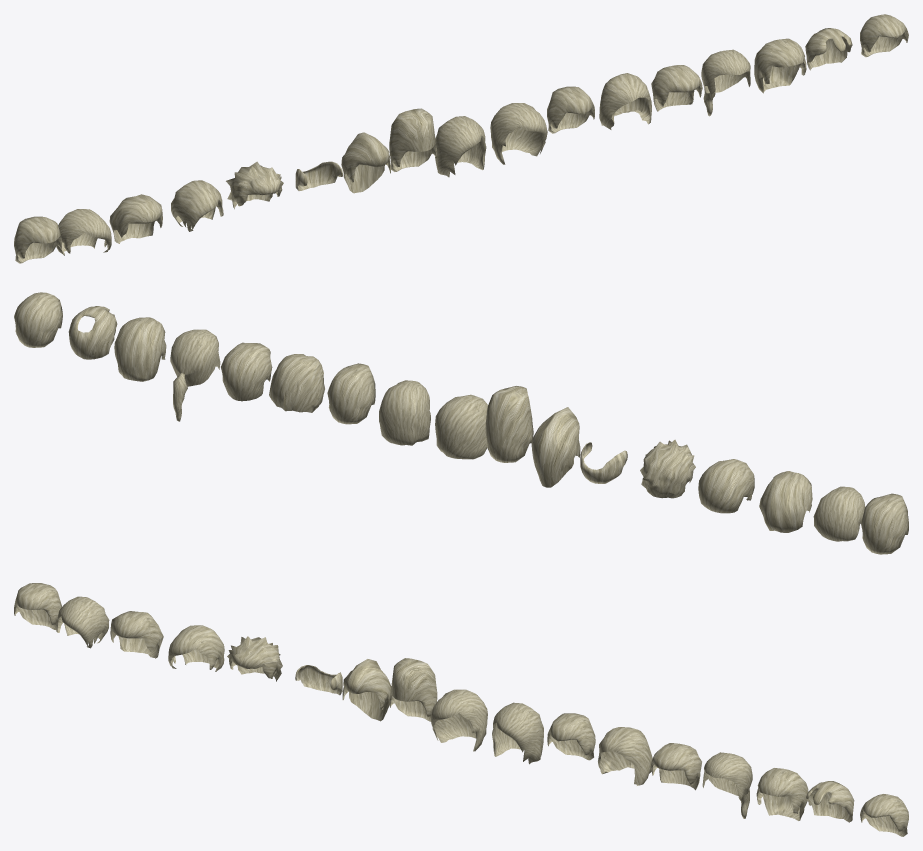
Rendered from HairPlaceable.dae.
The picture shows the model from 3 angles, top to bottom: view 1: azimuth 30°, elevation 25°; view 2: azimuth 150°, elevation 25°; view 3: azimuth 330°, elevation 25°; orthographic projection.
Parts seen in each view (by area): view 1: M_pt_left, Hair_AfAmLngCrew, M_pt_Right, M_slickedbk, Hair_Faux, M_center, curly, LPonyTail, S_pt_right, Hair_Normal, Hair_AfAmShortCrew, S_Pt_left (+5 smaller); view 2: Hair_AfAmLngCrew, M_pt_Right, M_pt_left, Hair_Faux, M_slickedbk, M_center, LPonyTail, curly, Hair_Spiky, S_pt_right, Hair_Normal, Hair_AfAmShortCrew (+5 smaller); view 3: M_pt_Right, M_pt_left, Hair_AfAmLngCrew, M_center, Hair_Faux, M_slickedbk, LPonyTail, curly, S_pt_right, S_Pt_left, Hair_Normal, Hair_ShavedFlatTop (+5 smaller).
Boxes of the visible parts, x1,y1,x2,y2 form: M_pt_left: [490, 103, 547, 164]; Hair_AfAmLngCrew: [389, 108, 436, 171]; M_pt_Right: [435, 116, 486, 177]; M_slickedbk: [754, 38, 806, 93]; Hair_Faux: [341, 132, 390, 193]; M_center: [599, 73, 651, 129]; curly: [109, 194, 162, 243]; LPonyTail: [701, 49, 750, 116]; S_pt_right: [171, 180, 223, 231]; Hair_Normal: [651, 65, 702, 111]; Hair_AfAmShortCrew: [14, 216, 61, 263]; S_Pt_left: [56, 209, 111, 255]; Hair_AfAmLngCrew: [485, 386, 533, 462]; M_pt_Right: [435, 394, 487, 459]; M_pt_left: [379, 380, 430, 445]; Hair_Faux: [531, 407, 580, 487]; M_slickedbk: [114, 317, 166, 381]; M_center: [269, 354, 324, 412]; LPonyTail: [170, 329, 220, 421]; curly: [759, 471, 812, 532]; Hair_Spiky: [640, 439, 695, 498]; S_pt_right: [698, 459, 754, 513]; Hair_Normal: [221, 342, 272, 401]; Hair_AfAmShortCrew: [861, 493, 908, 554]; M_pt_Right: [430, 689, 487, 751]; M_pt_left: [492, 702, 543, 764]; Hair_AfAmLngCrew: [389, 658, 437, 721]; M_center: [598, 727, 652, 785]; Hair_Faux: [342, 659, 391, 721]; M_slickedbk: [756, 768, 808, 820]; LPonyTail: [702, 752, 752, 818]; curly: [110, 611, 163, 658]; S_pt_right: [168, 625, 224, 671]; S_Pt_left: [56, 596, 109, 648]; Hair_Normal: [650, 743, 701, 790]; Hair_ShavedFlatTop: [547, 713, 595, 760].
Size of the model in its own units: 4.01 by 0.4004 by 0.2852.
